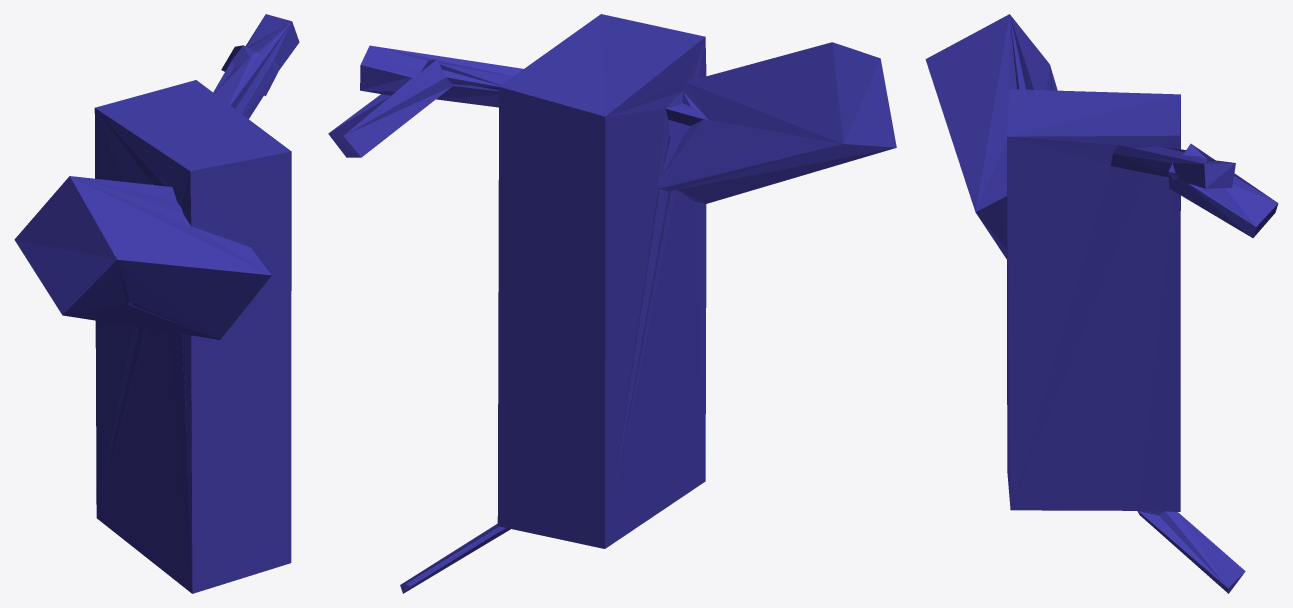
3 renders of one model, left to right at view 1: azimuth 30°, elevation 25°; view 2: azimuth 150°, elevation 25°; view 3: azimuth 270°, elevation 25°, orthographic. The views are drawn at different scales.
Visible parts, largest first — view 1: 152_Cube.634; view 2: 152_Cube.634; view 3: 152_Cube.634.
Part boxes in pixels (<box>): 152_Cube.634: <box>14,14,299,593</box>; 152_Cube.634: <box>328,14,896,593</box>; 152_Cube.634: <box>925,14,1278,593</box>.
Bounding box in the file's own units: 11.34 × 14.54 × 10.24.
